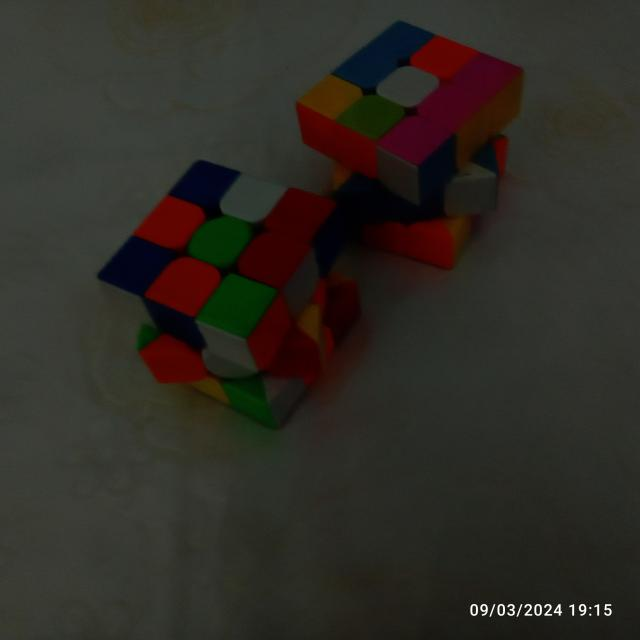Rub: (89, 152, 370, 434), (290, 14, 529, 275)
